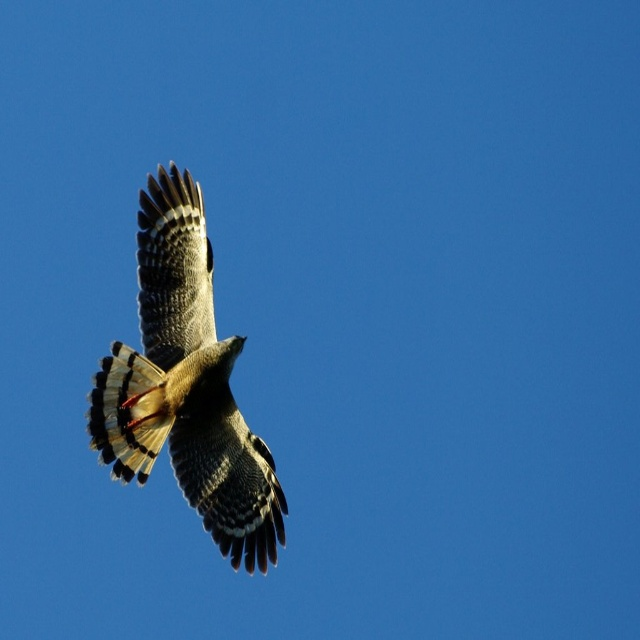Eagle: (87, 146, 292, 579)
